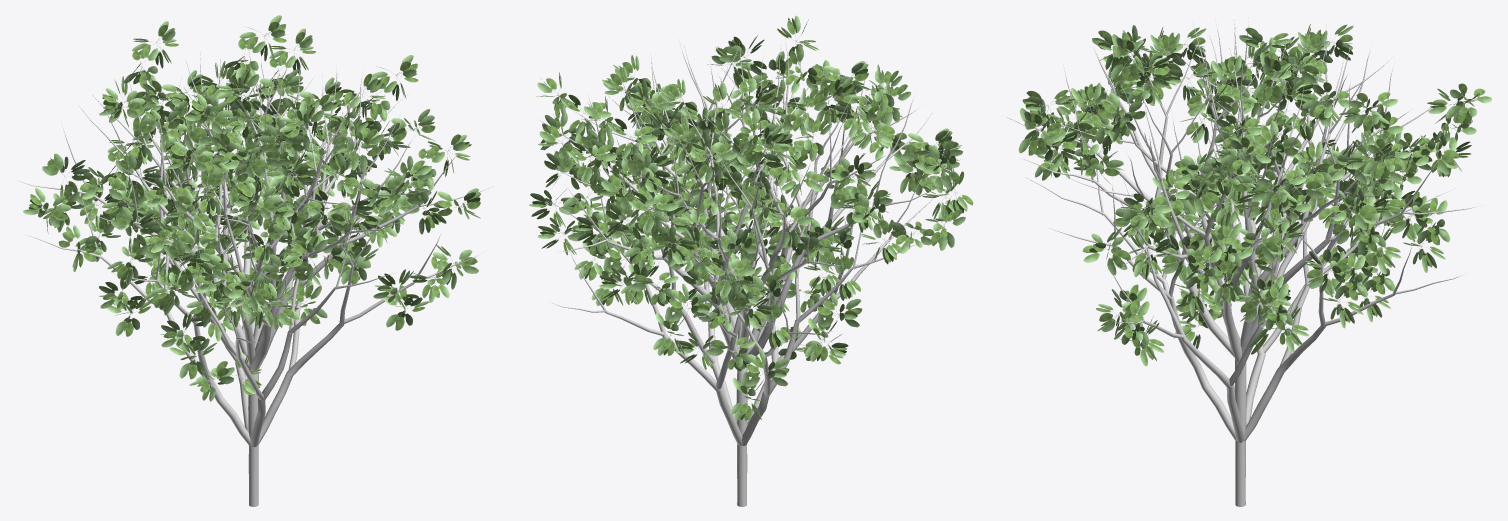
The model's file is TreeL_Expensive.fbx.
The picture shows the model from 3 angles, left to right: view 1: azimuth 30°, elevation 25°; view 2: azimuth 150°, elevation 25°; view 3: azimuth 270°, elevation 25°; orthographic projection. The views are drawn at different scales.
Visible parts, largest first — view 1: Plane.1544, Tree.001; view 2: Plane.1544, Tree.001; view 3: Plane.1544, Tree.001.
Boxes of the visible parts, x1,y1,x2,y2 form: Plane.1544: (23, 15, 480, 401); Tree.001: (20, 49, 493, 506); Plane.1544: (529, 15, 973, 420); Tree.001: (541, 39, 941, 506); Plane.1544: (1018, 24, 1491, 366); Tree.001: (1007, 17, 1482, 506).
Bounding box in the file's own units: 427 × 455 × 430.
